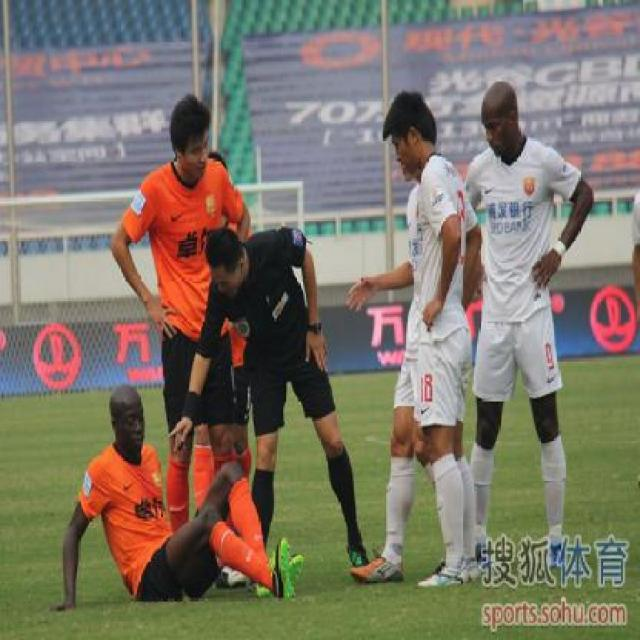fall: (47, 372, 311, 612)
